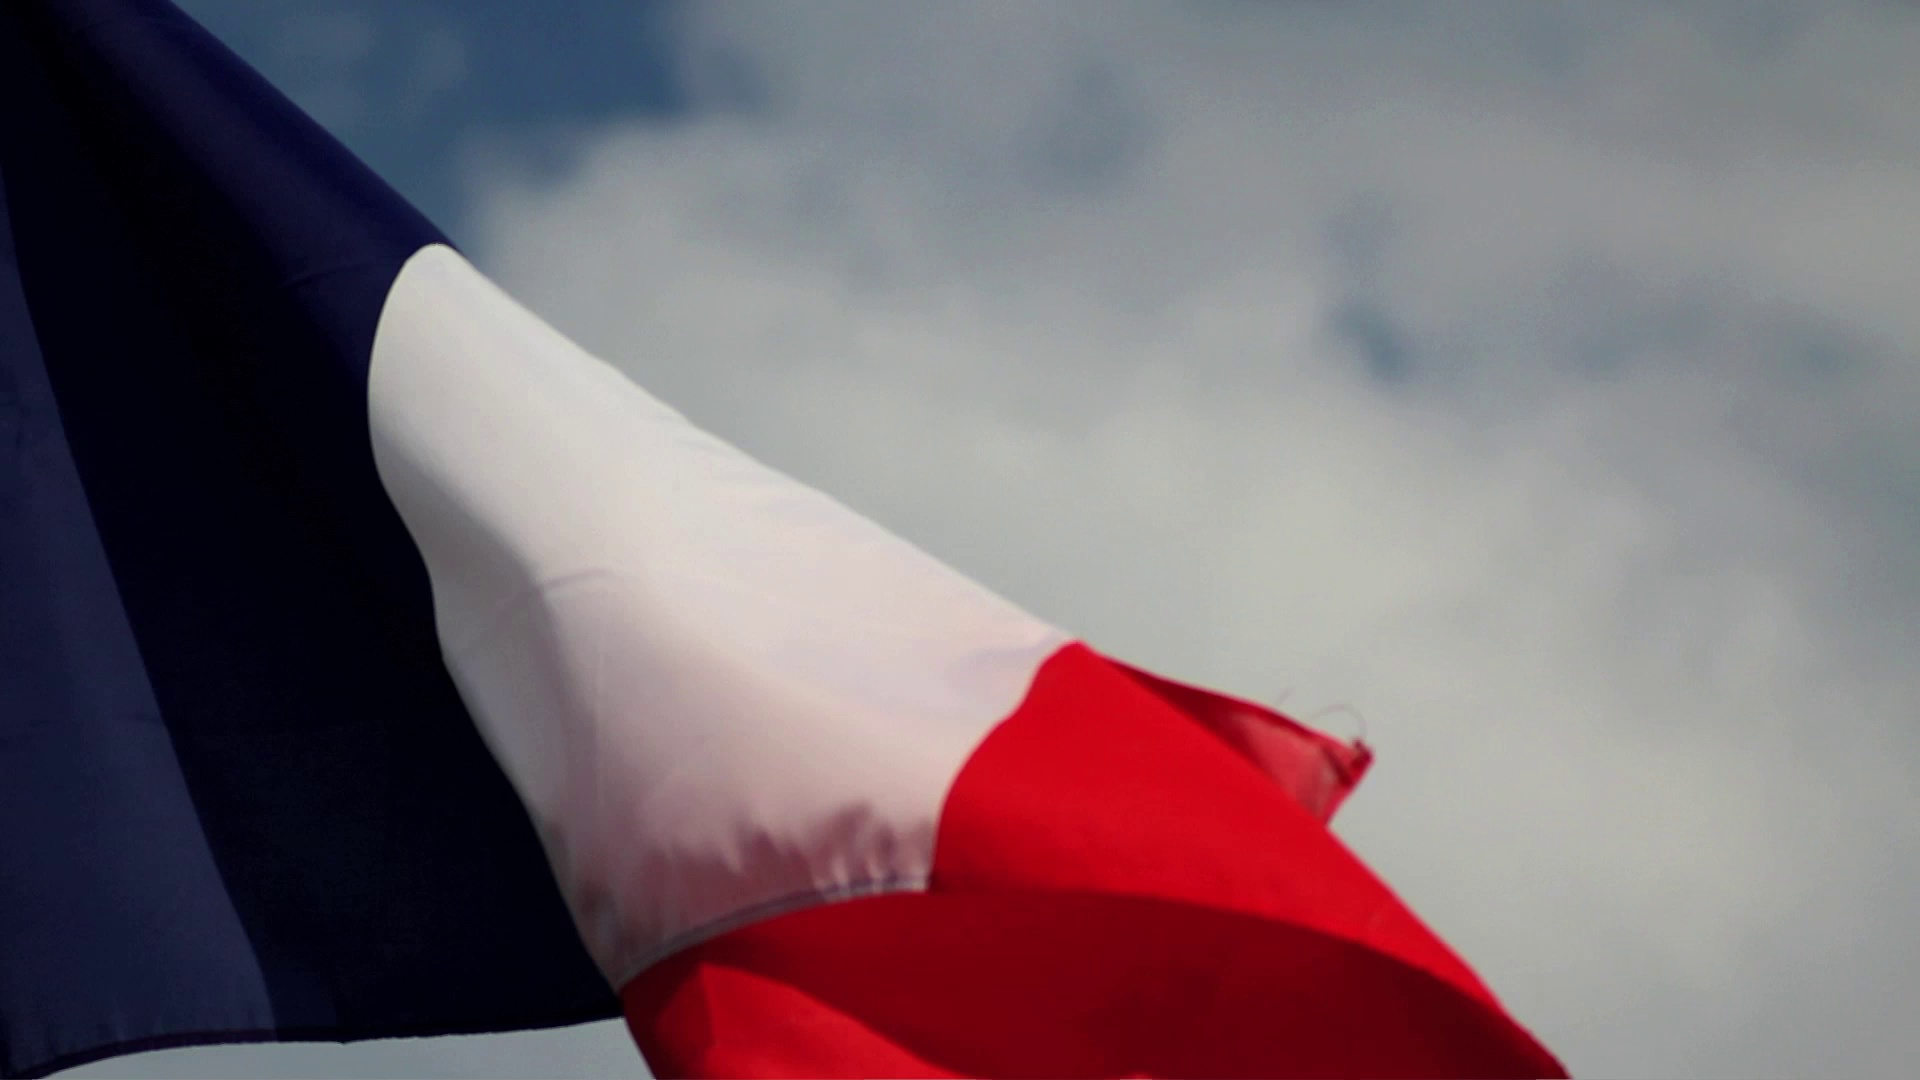French Flag: (7, 4, 1553, 1080)
